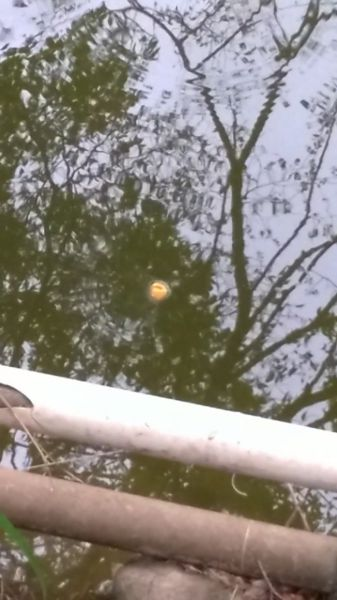eggs: (144, 277, 173, 305)
